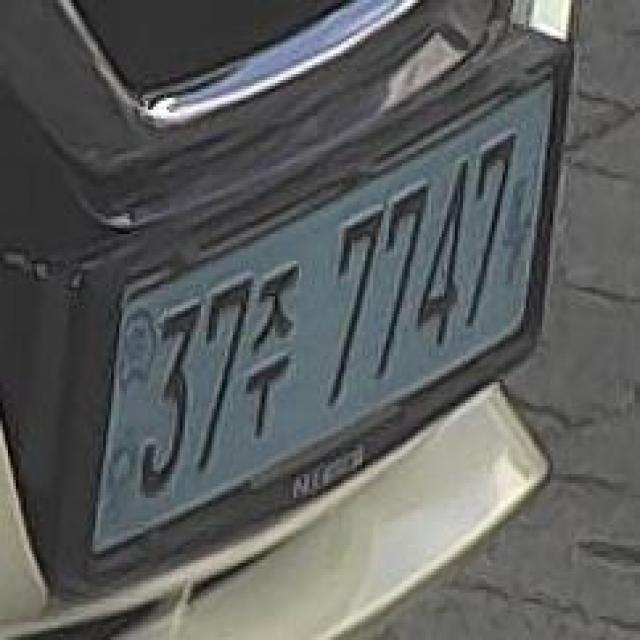EV_plate: (90, 108, 557, 612)
